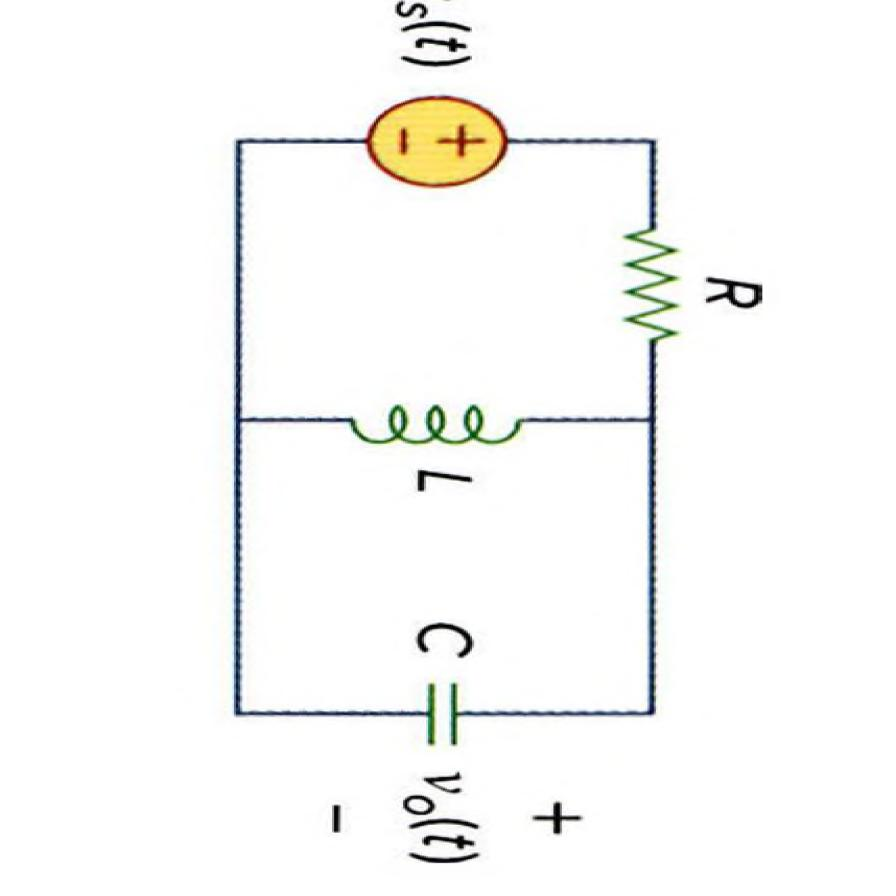C1: (402, 678, 476, 751)
L1: (338, 388, 534, 456)
V2: (364, 88, 518, 187)
